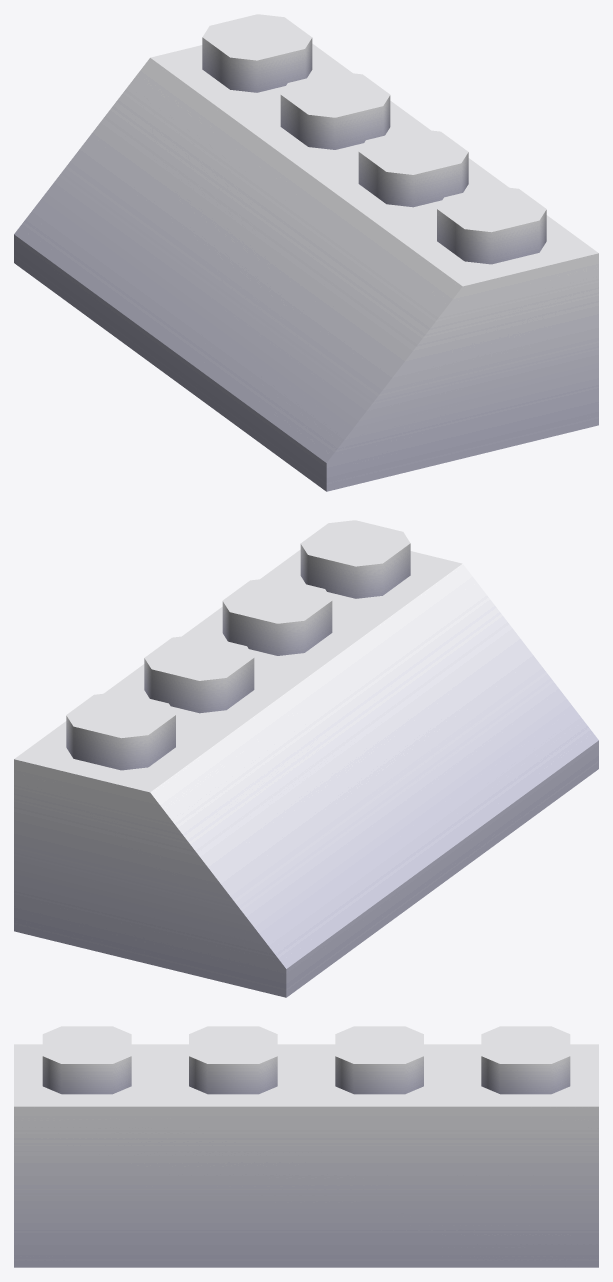
The model's file is bevel_lq_brick_slope_2x4.glb.
3 renders of one model, top to bottom at view 1: azimuth 30°, elevation 25°; view 2: azimuth 150°, elevation 25°; view 3: azimuth 270°, elevation 25°, orthographic. The views are drawn at different scales.
Parts seen in each view (by area): view 1: bevel-lq-brick-slope-2x4; view 2: bevel-lq-brick-slope-2x4; view 3: bevel-lq-brick-slope-2x4.
Part boxes in pixels (x1,y1,x2,y2): bevel-lq-brick-slope-2x4: [14, 14, 598, 491]; bevel-lq-brick-slope-2x4: [14, 520, 598, 997]; bevel-lq-brick-slope-2x4: [14, 1026, 598, 1267].
Size of the model in its own units: 0.159 by 0.114 by 0.316.
Materials: 1 (1 with a texture image).
